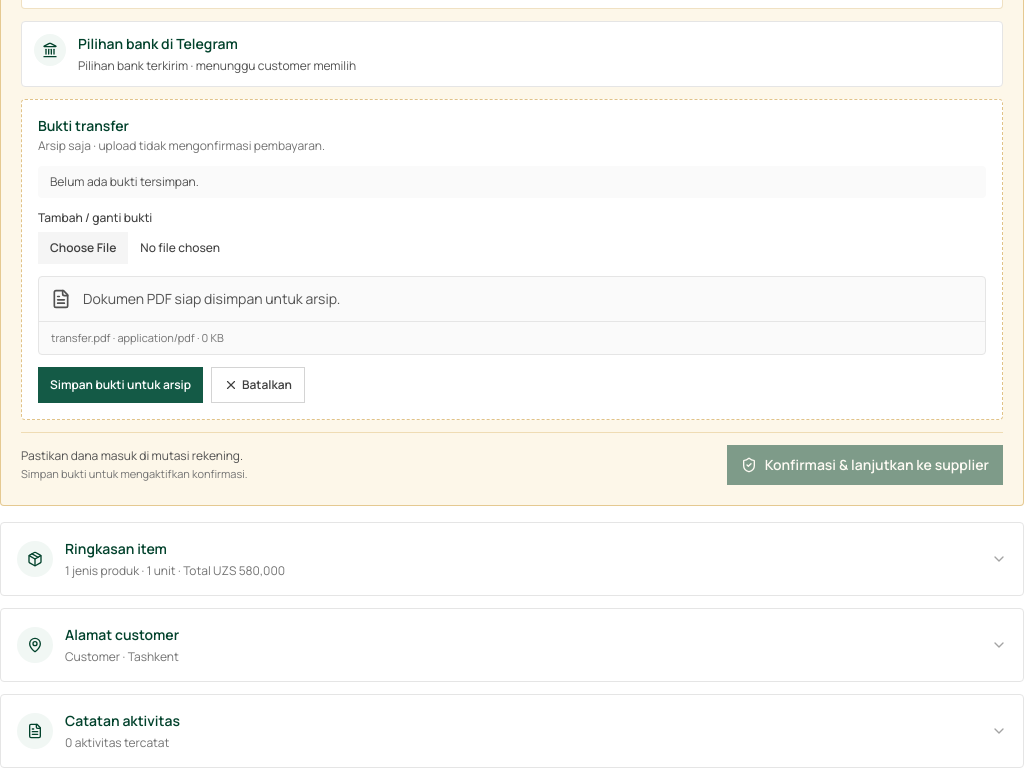
keeps six-stage payment view in place while evidence is stored for audit
The image size is (1024, 768).
Earlier steps of the test are not shown.
Later steps or results of the test are not shown.
(page scrolled)
Expected: the button with test id "confirm-payment-and-continue" is disabled, [727,445,1003,485]
Expected: the element with test id "payment-evidence-archive" shows "upload tidak mengonfirmasi pembayaran", [38,136,325,154]
Click the button with test id "save-payment-evidence" at {"x": 120, "y": 385}, box [38,367,203,403]
(page scrolled)
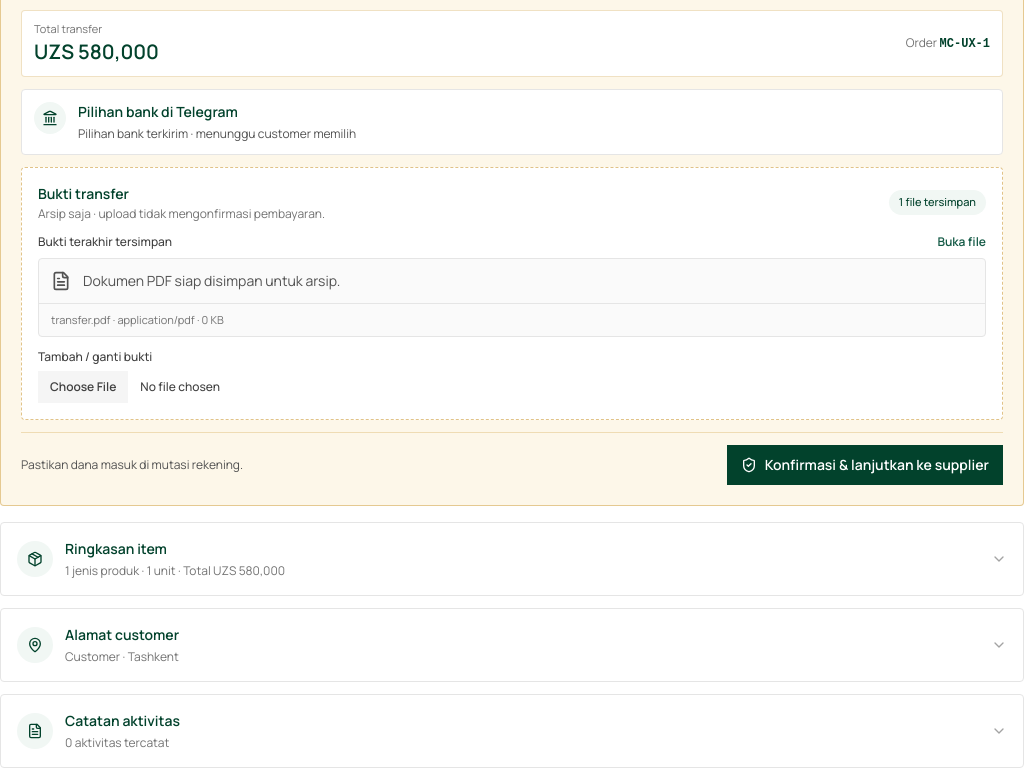
Expected: the text "upload tidak mengonfirmasi pembayaran" is shown, [38,204,325,222]
Expected: the button with test id "confirm-payment-and-continue" is enabled, [727,445,1003,485]
